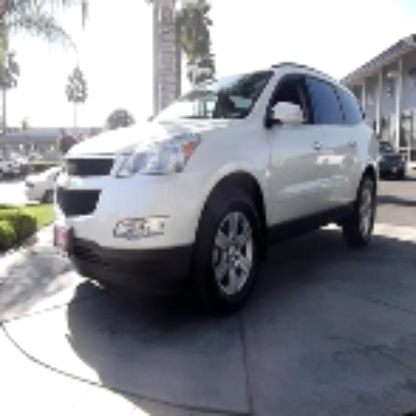Vehicle: (52, 65, 380, 308)
